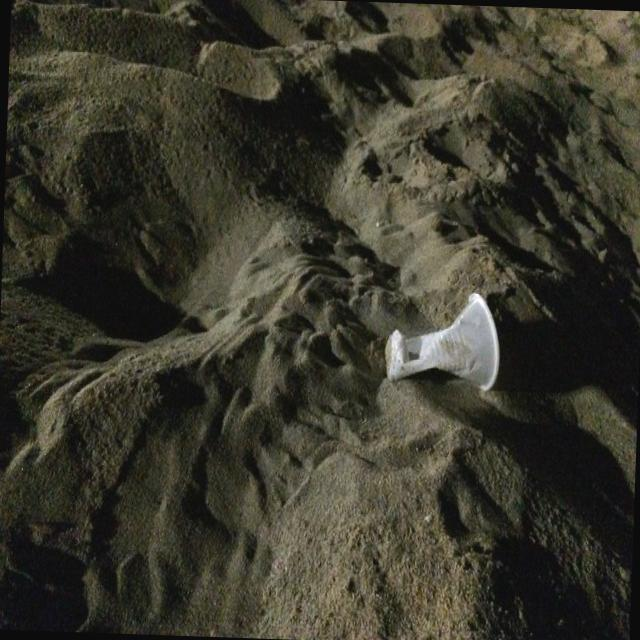Recycle: (387, 293, 502, 396)
